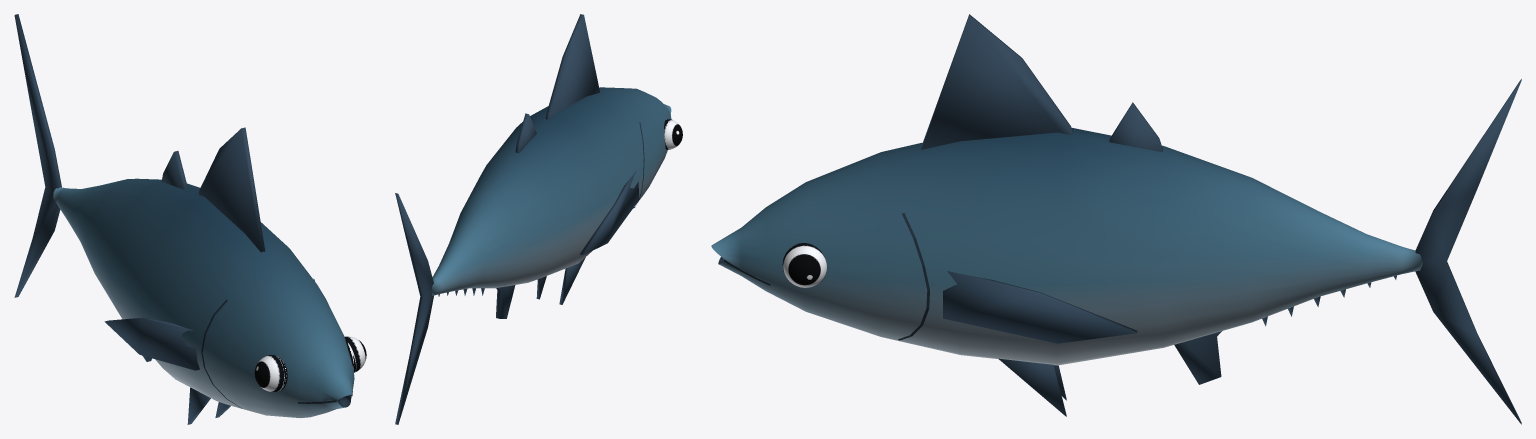
File: Tuna_v2.glb
3 renders of one model, left to right at view 1: azimuth 30°, elevation 25°; view 2: azimuth 150°, elevation 25°; view 3: azimuth 270°, elevation 25°, orthographic. The views are drawn at different scales.
Parts seen in each view (by area): view 1: Tuna_Body, Tuna_DorsalFin1, Tuna_TailFin, Tuna_PectoralFins, Tuna_Eyes, Tuna_DorsalFin2, Tuna_PelvicFins; view 2: Tuna_Body, Tuna_DorsalFin1, Tuna_TailFin, Tuna_PectoralFins, Tuna_PelvicFins, Tuna_AnalFin, Tuna_Eyes, Tuna_DorsalFin2; view 3: Tuna_Body, Tuna_DorsalFin1, Tuna_TailFin, Tuna_PectoralFins, Tuna_PelvicFins, Tuna_Eyes, Tuna_AnalFin, Tuna_DorsalFin2.
Part boxes in pixels (<box>): Tuna_Body: <box>53,178,354,418</box>; Tuna_DorsalFin1: <box>198,127,265,252</box>; Tuna_TailFin: <box>14,14,61,297</box>; Tuna_PectoralFins: <box>104,317,199,370</box>; Tuna_Eyes: <box>254,336,366,391</box>; Tuna_DorsalFin2: <box>161,151,187,189</box>; Tuna_PelvicFins: <box>187,387,230,424</box>; Tuna_Body: <box>431,87,671,295</box>; Tuna_DorsalFin1: <box>545,14,599,119</box>; Tuna_TailFin: <box>395,193,433,424</box>; Tuna_PectoralFins: <box>580,170,639,254</box>; Tuna_PelvicFins: <box>536,257,585,304</box>; Tuna_AnalFin: <box>496,285,515,318</box>; Tuna_Eyes: <box>664,119,682,149</box>; Tuna_DorsalFin2: <box>515,113,536,153</box>; Tuna_Body: <box>711,128,1422,365</box>; Tuna_DorsalFin1: <box>921,14,1072,149</box>; Tuna_TailFin: <box>1415,79,1521,424</box>; Tuna_PectoralFins: <box>943,271,1137,343</box>; Tuna_PelvicFins: <box>998,358,1066,416</box>; Tuna_Eyes: <box>782,243,827,287</box>; Tuna_AnalFin: <box>1174,331,1221,384</box>; Tuna_DorsalFin2: <box>1109,102,1162,152</box>.
Bounding box in the file's own units: 0.231 × 0.51 × 0.917.
4 materials, 1 textured.
